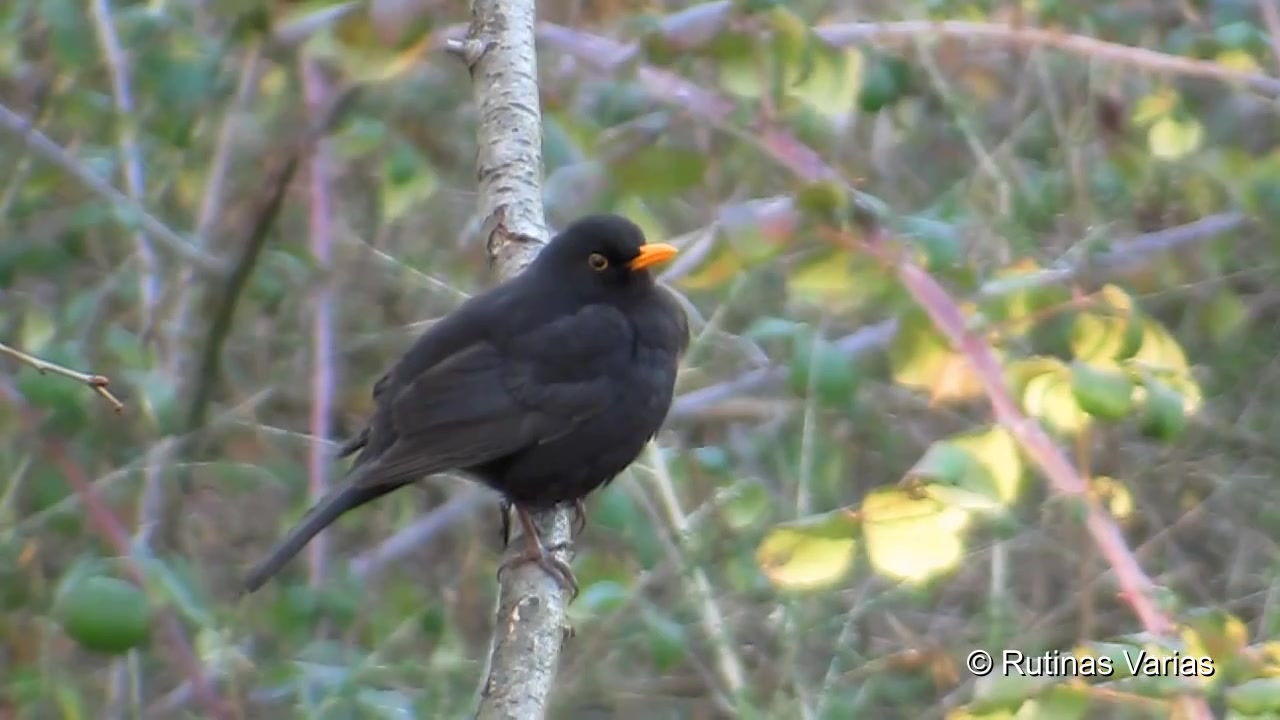bird: (241, 211, 692, 600)
